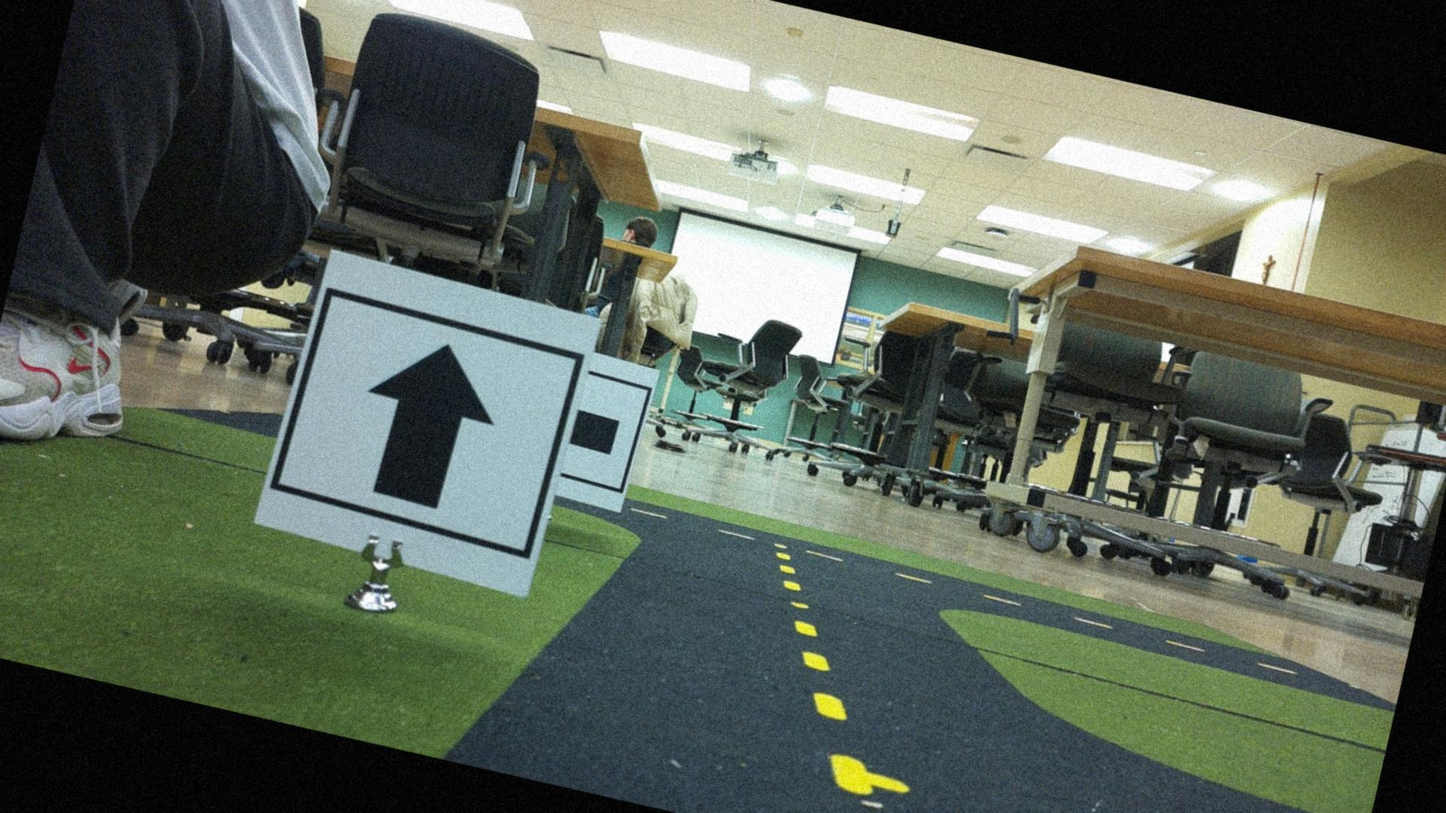gostraight: (267, 260, 585, 586)
yellowline: (724, 539, 922, 800)
